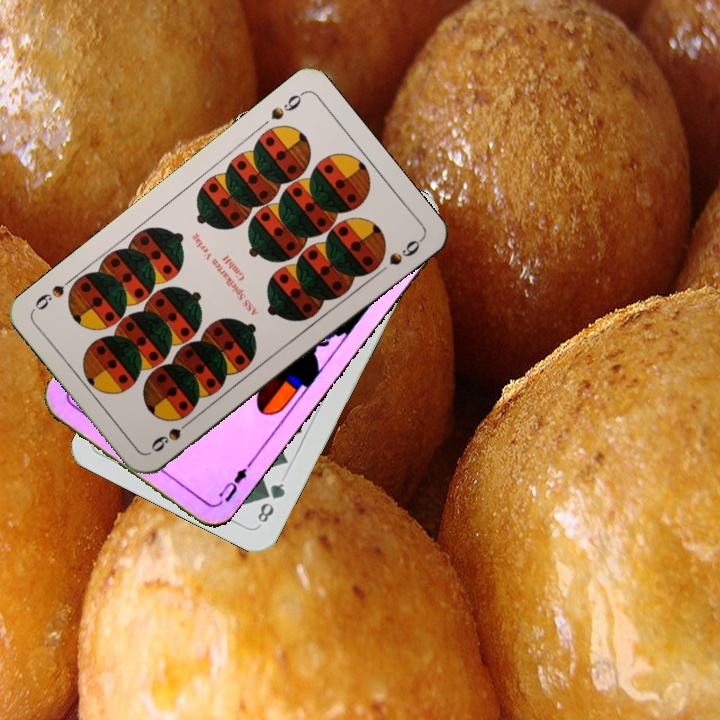EU: (210, 460, 254, 509)
G8: (253, 479, 288, 528)
S9: (147, 414, 197, 455), (266, 88, 307, 123)
